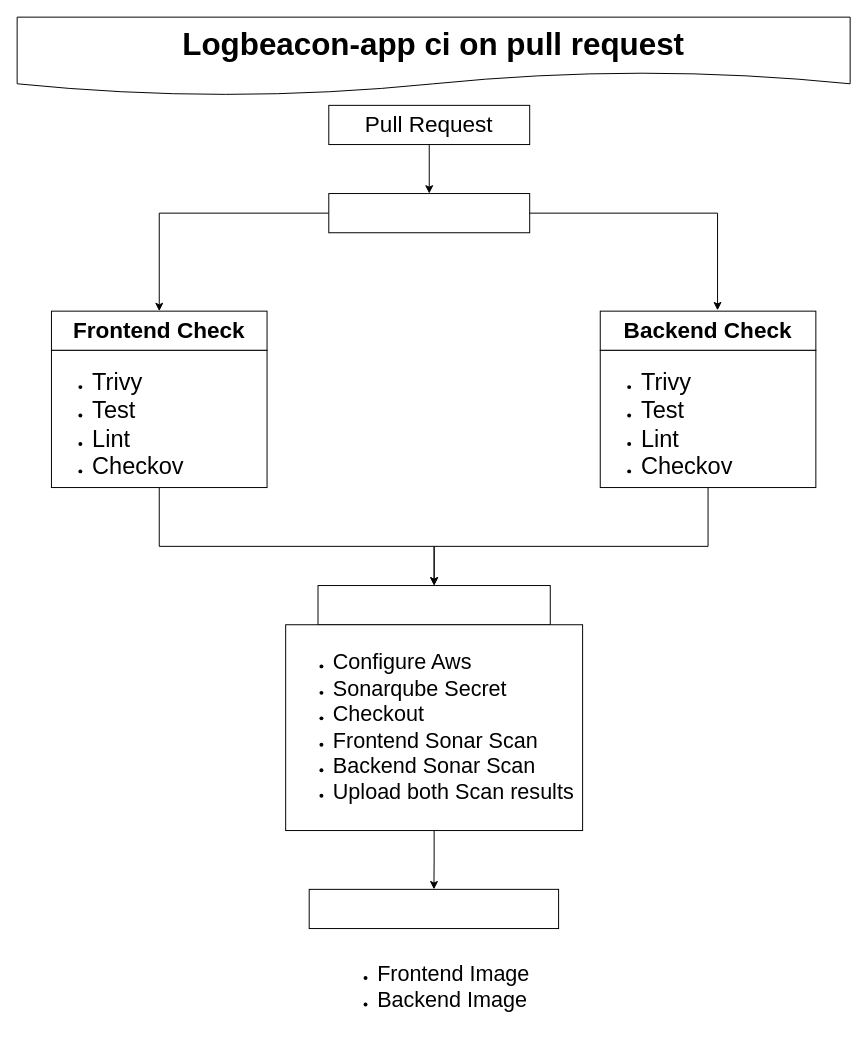
This 867x1063 diagram has some shape labels left out. Each missing label, with the box of its shape:
Build & Trivy Scan: (308, 888, 559, 929)
main: (328, 193, 530, 233)
Sonarqube Analysis: (317, 585, 550, 625)
